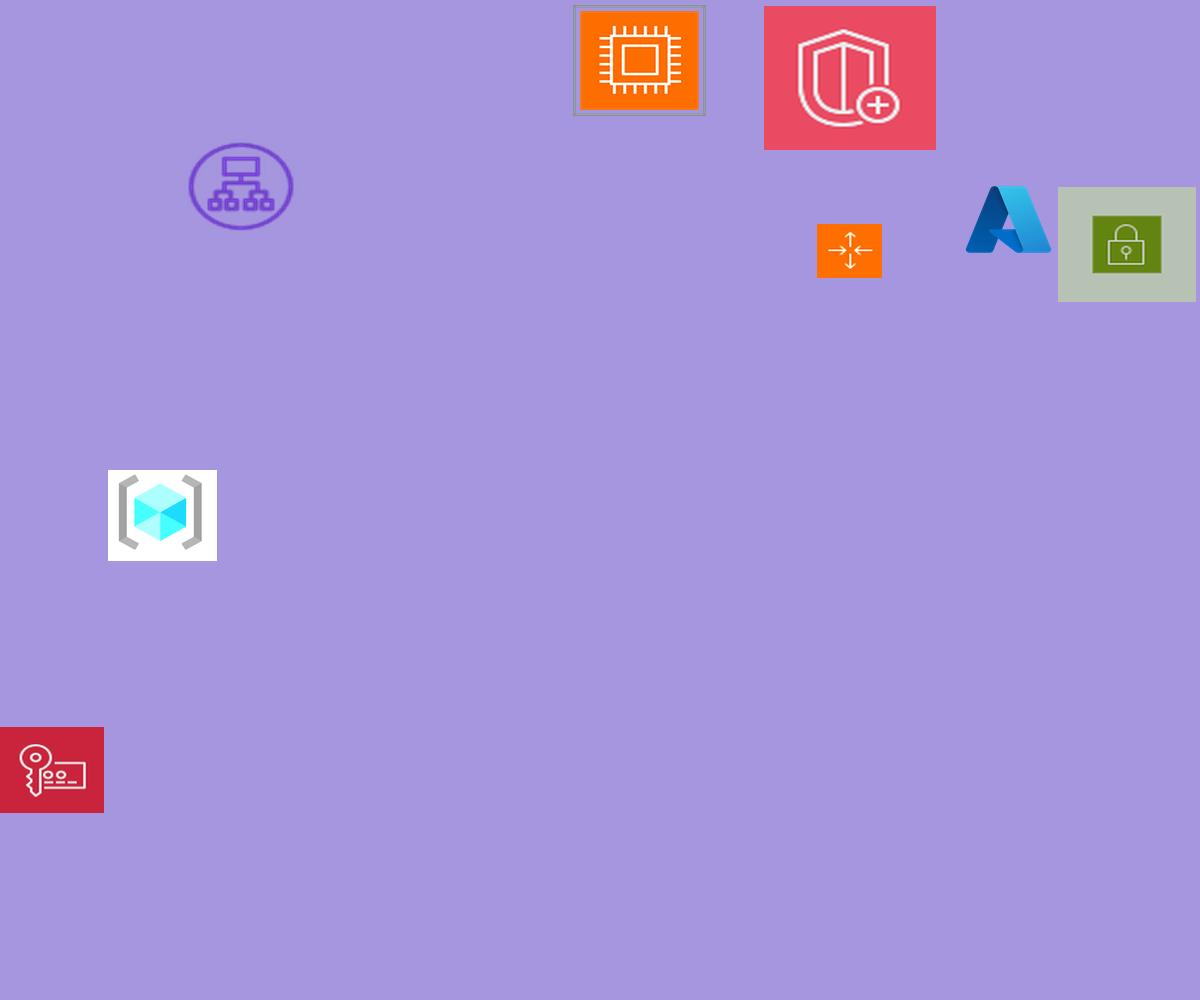AWS-Category_Compute: (573, 5, 706, 116)
AWS-Key-Management-Service: (0, 727, 104, 813)
AWS-Public-subnet: (1058, 187, 1196, 302)
AWS-Res_Elastic-Load-Balancing_Application-Load-Balancer: (184, 139, 298, 234)
AWS-Scaling-group: (817, 224, 882, 278)
AWS-Shield: (764, 6, 936, 150)
Azure_resource_group: (108, 470, 217, 561)
Azure_services: (962, 181, 1055, 258)
